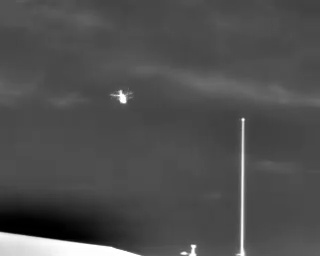HELICOPTER: (106, 83, 139, 111)
